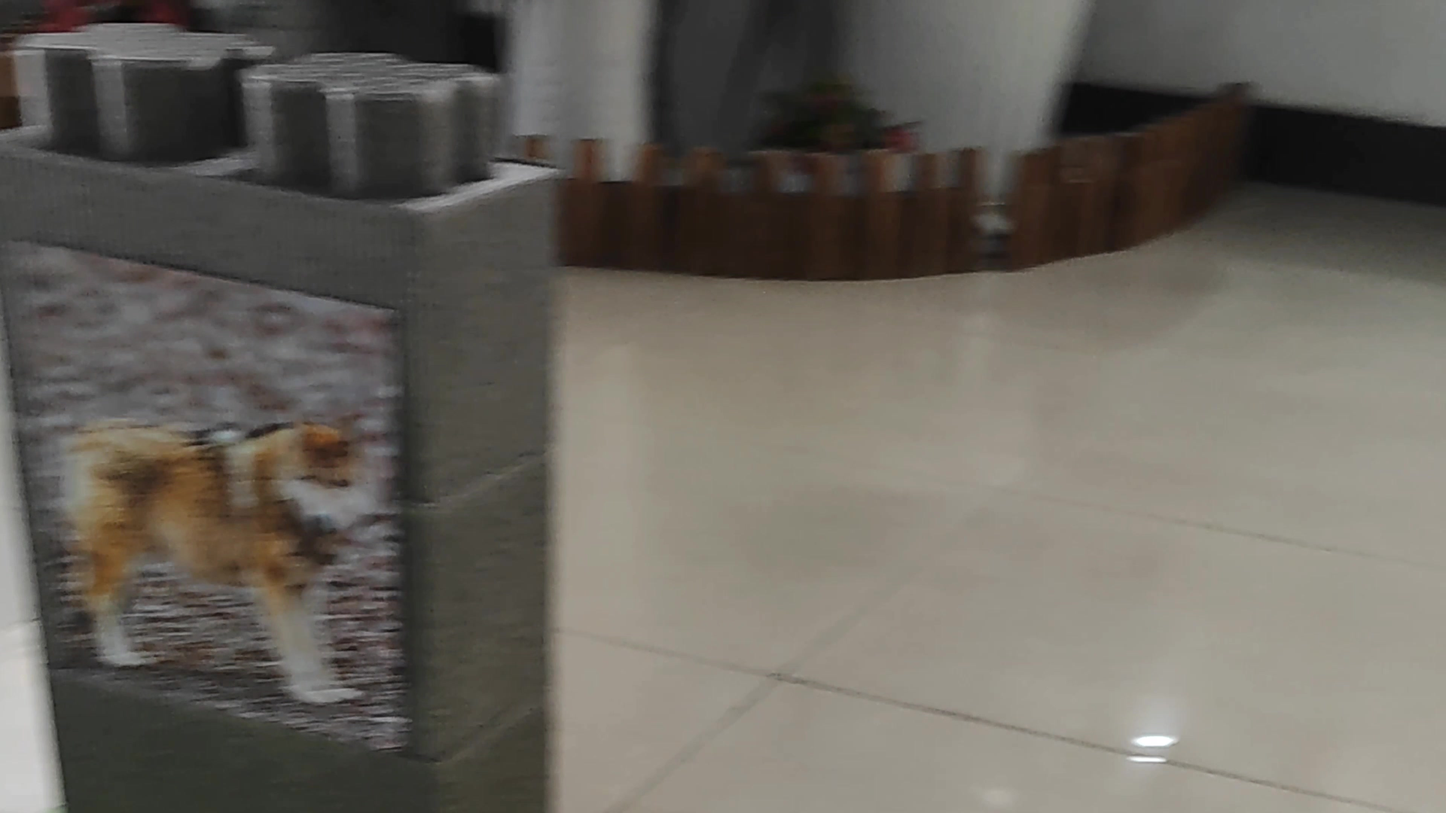wolf: (49, 400, 409, 706)
